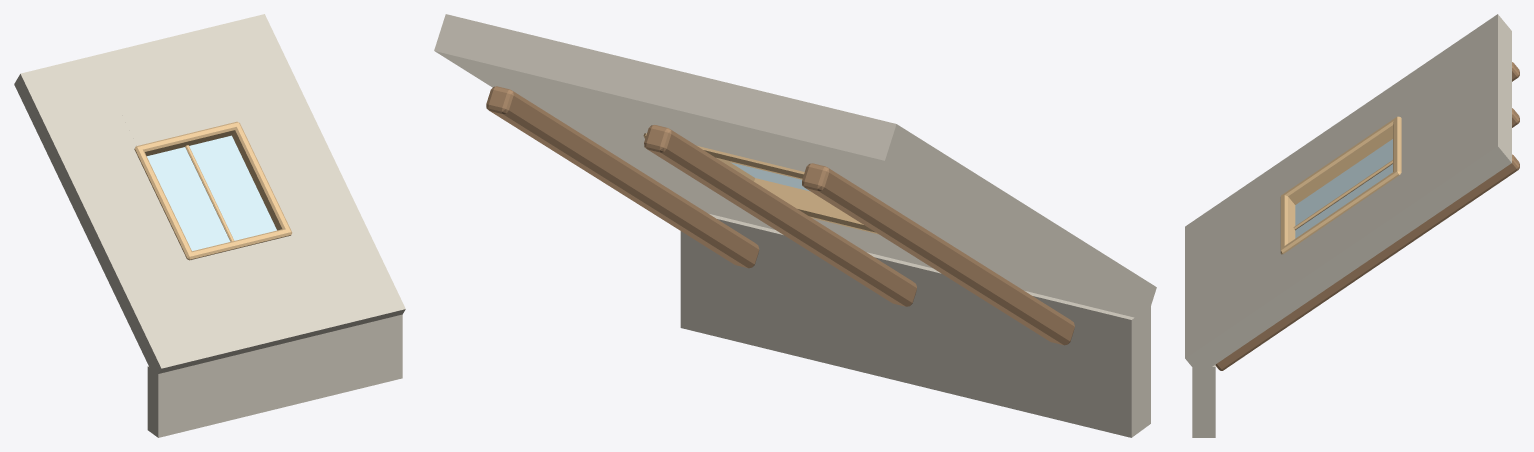
The model's file is cozy-home-interiors-attic-skylight-2m-31ec6af1.glb.
The picture shows the model from 3 angles, left to right: view 1: azimuth 30°, elevation 25°; view 2: azimuth 150°, elevation 25°; view 3: azimuth 270°, elevation 25°; orthographic projection. The views are drawn at different scales.
Visible parts, largest first — view 1: attic-skylight-2m; view 2: attic-skylight-2m; view 3: attic-skylight-2m.
Part boxes in pixels (x1,y1,x2,y2): attic-skylight-2m: (14,14,405,437); attic-skylight-2m: (434,14,1156,437); attic-skylight-2m: (1185,14,1519,437).
Bounding box in the file's own units: 2 × 2.06 × 2.14.
